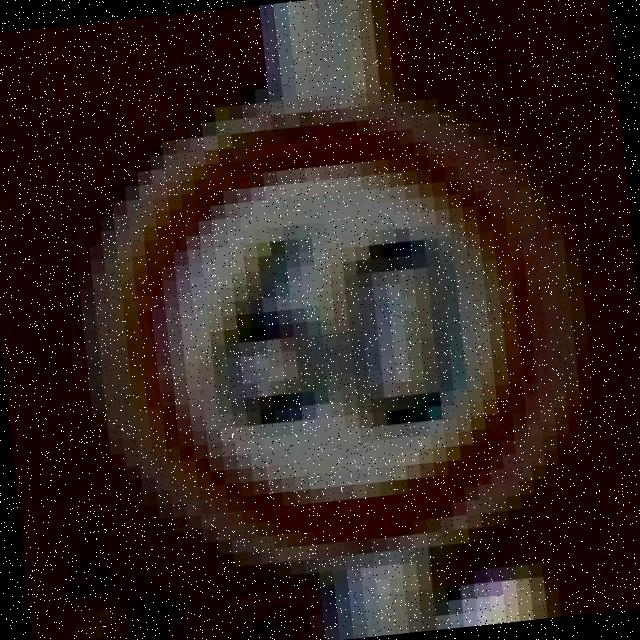Ograniczenie predkosci do 60: (99, 91, 566, 563)
